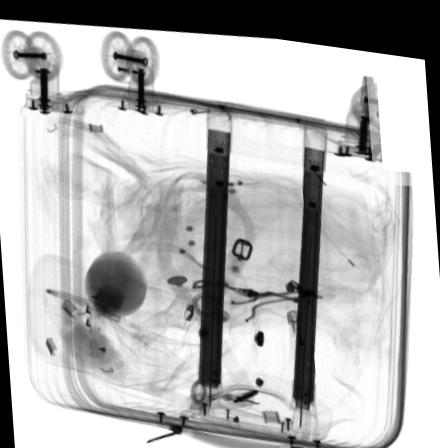Lighter: (61, 293, 119, 353)
